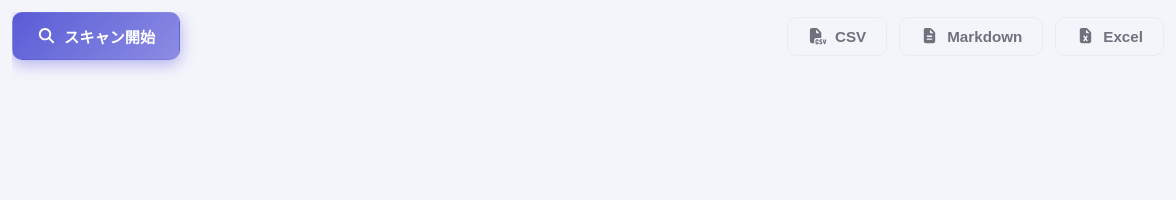
Test: ScanServicesPanel › 検出結果がある場合、件数・一覧・アクセスリンク・ダウンロードボタンを表示する
This screenshot has width=1176, height=200.
Step 1. Click the button "スキャン開始" → (96, 36), box [12,12,180,60]
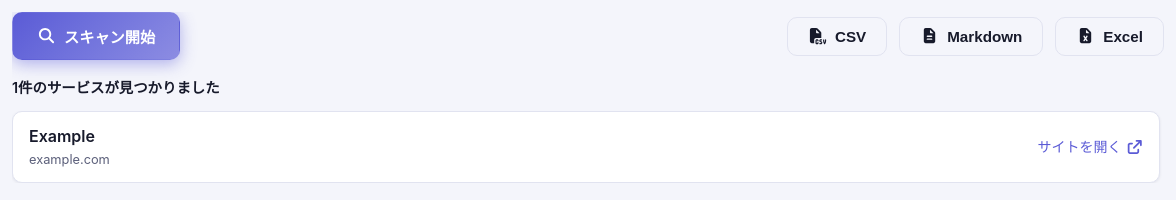
Result: the text "1件のサービスが見つかりました" is shown at [12,79,220,96]
Result: the list item shows "Example" at [29,126,95,146]
Result: the list item shows "example.com" at [29,152,110,167]
